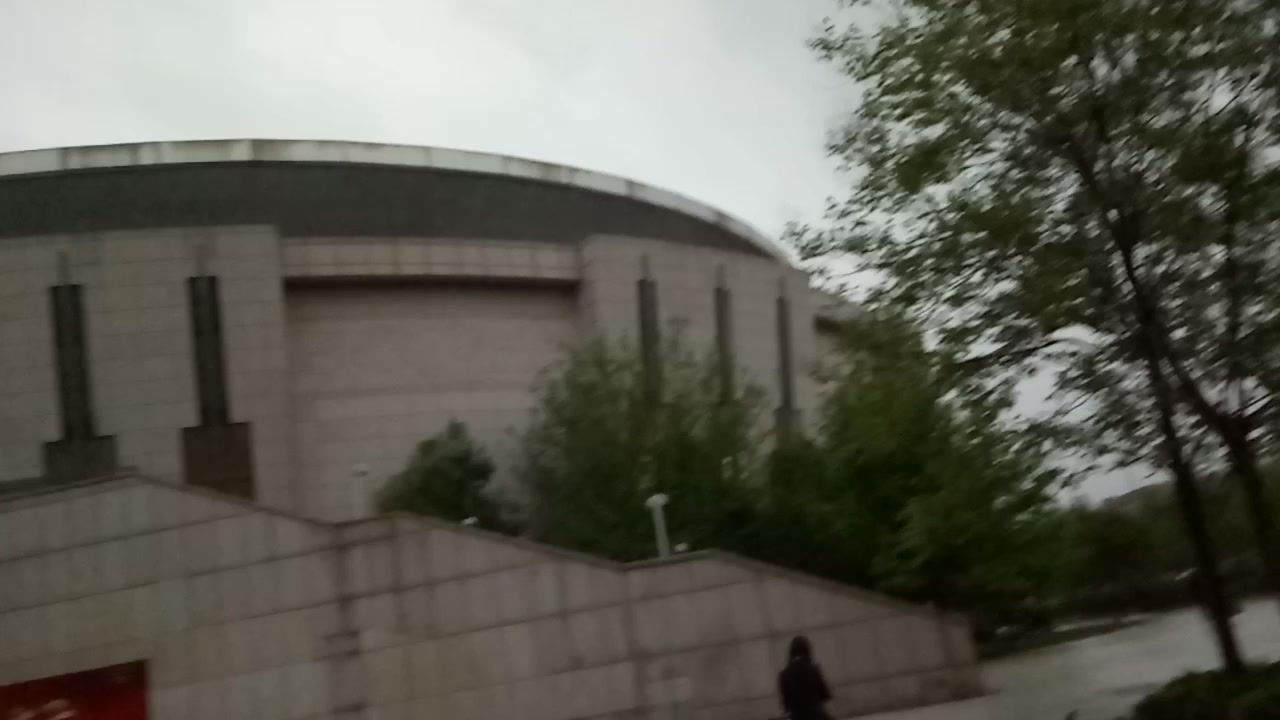zhongtiww: (8, 129, 989, 714)
